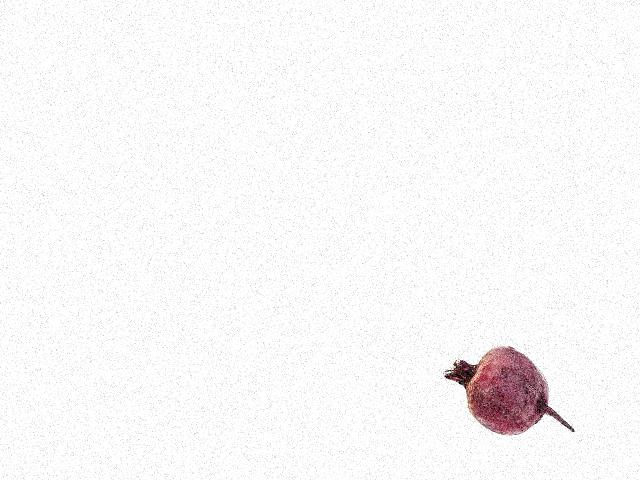beet: (443, 347, 573, 435)
